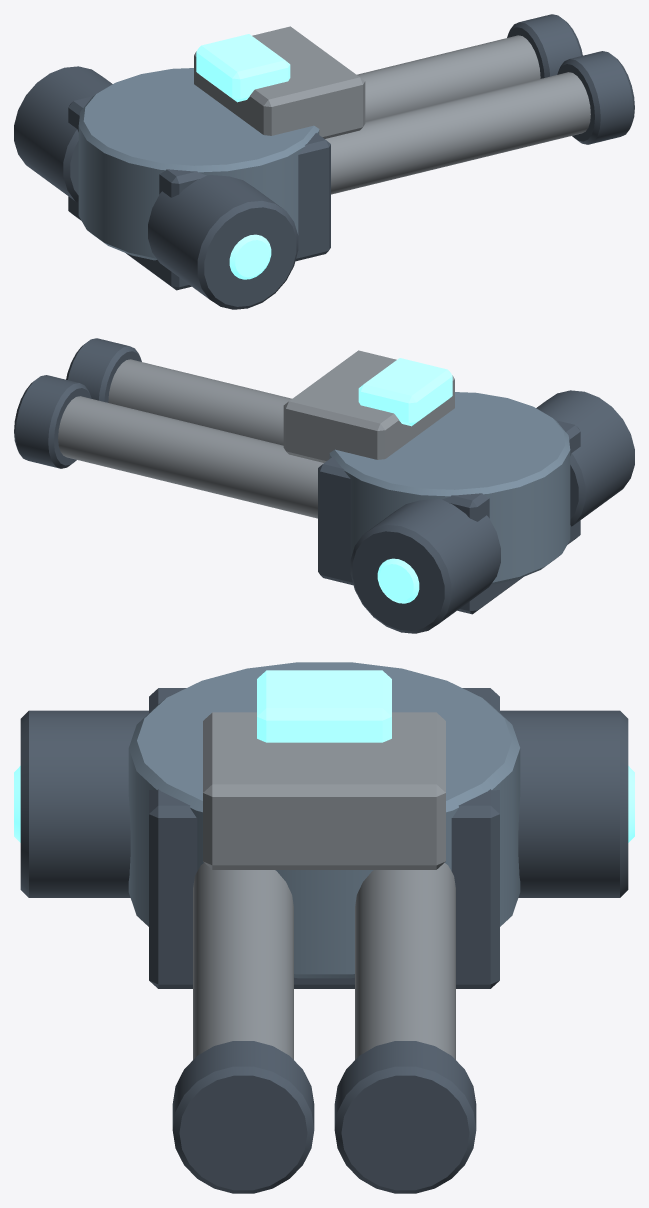
Rendered from gun_turret_l2.glb.
3 renders of one model, top to bottom at view 1: azimuth 30°, elevation 25°; view 2: azimuth 150°, elevation 25°; view 3: azimuth 270°, elevation 25°, orthographic. The views are drawn at different scales.
Parts seen in each view (by area): view 1: Cylinder, Cylinder.001, Cylinder.005, Cube.001, Cylinder.003, Cylinder.007, Cube, Cylinder.002, Cube.002, Cylinder.004, Cylinder.006; view 2: Cylinder, Cylinder.003, Cylinder.007, Cube.001, Cylinder.001, Cylinder.005, Cube, Cylinder.004, Cube.002, Cylinder.002, Cylinder.008; view 3: Cube.001, Cylinder, Cylinder.005, Cylinder.007, Cube, Cylinder.002, Cylinder.004, Cylinder.001, Cylinder.003, Cube.002.
Boxes of the visible parts, bbox=[...] form: Cylinder: bbox=[78, 68, 319, 260]; Cylinder.001: bbox=[325, 72, 590, 194]; Cylinder.005: bbox=[148, 175, 298, 309]; Cube.001: bbox=[194, 26, 365, 138]; Cylinder.003: bbox=[357, 35, 540, 121]; Cylinder.007: bbox=[14, 66, 112, 202]; Cube: bbox=[68, 96, 330, 290]; Cylinder.002: bbox=[557, 51, 634, 144]; Cube.002: bbox=[196, 34, 290, 102]; Cylinder.004: bbox=[507, 14, 582, 78]; Cylinder.006: bbox=[229, 234, 271, 279]; Cylinder: bbox=[329, 392, 570, 584]; Cylinder.003: bbox=[58, 396, 323, 518]; Cylinder.007: bbox=[350, 499, 500, 633]; Cube.001: bbox=[283, 350, 454, 462]; Cylinder.001: bbox=[108, 359, 291, 445]; Cylinder.005: bbox=[536, 390, 634, 526]; Cube: bbox=[318, 420, 580, 614]; Cylinder.004: bbox=[14, 375, 91, 468]; Cube.002: bbox=[358, 358, 452, 426]; Cylinder.002: bbox=[66, 338, 141, 402]; Cylinder.008: bbox=[377, 558, 419, 603]; Cube.001: bbox=[203, 712, 445, 869]; Cylinder: bbox=[128, 662, 520, 978]; Cylinder.005: bbox=[20, 710, 148, 897]; Cylinder.007: bbox=[500, 710, 628, 897]; Cube: bbox=[149, 688, 499, 988]; Cylinder.002: bbox=[172, 1041, 314, 1193]; Cylinder.004: bbox=[334, 1041, 476, 1193]; Cylinder.001: bbox=[193, 862, 293, 1059]; Cylinder.003: bbox=[355, 862, 455, 1059]; Cube.002: bbox=[257, 670, 391, 742].
Bounding box in the file's own units: 1.36 × 0.45 × 0.92.
